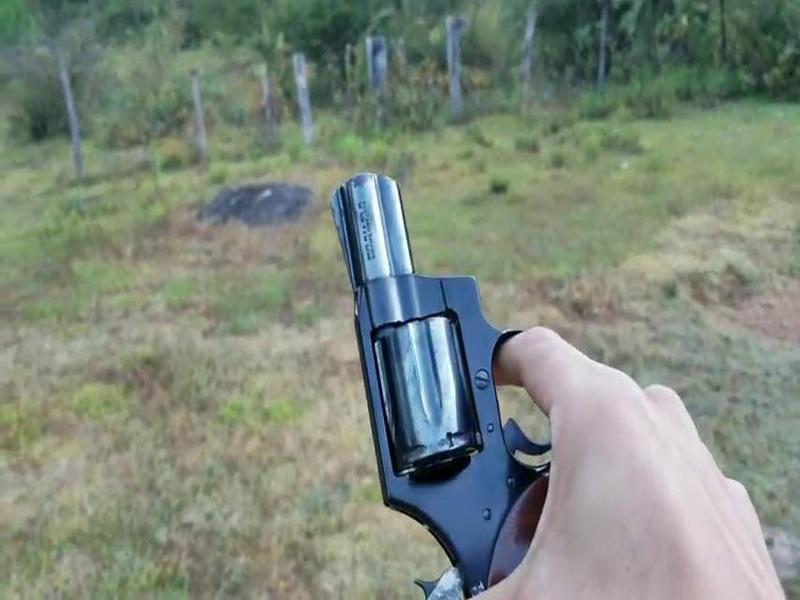Revolver: (321, 143, 592, 574)
